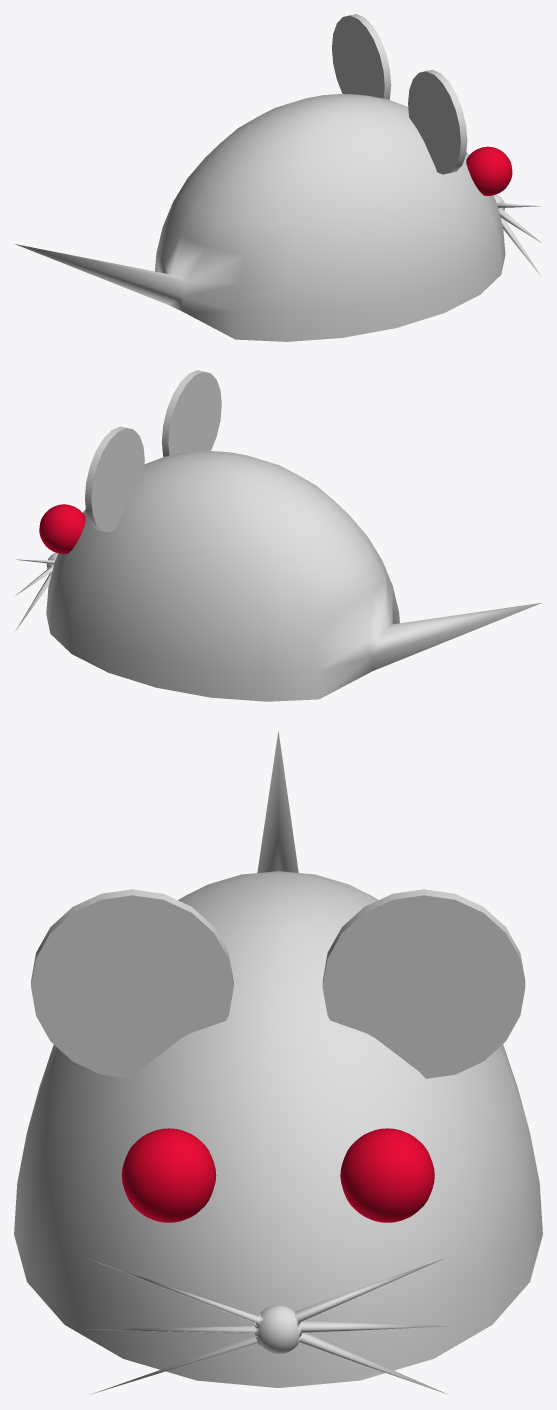
The model's file is nezumi.fbx.
3 renders of one model, top to bottom at view 1: azimuth 30°, elevation 25°; view 2: azimuth 150°, elevation 25°; view 3: azimuth 270°, elevation 25°, orthographic. The views are drawn at different scales.
Visible parts, largest first — view 1: pCylinder3; view 2: pCylinder3; view 3: pCylinder3.
Part boxes in pixels (x1,y1,x2,y2): pCylinder3: [15, 14, 541, 341]; pCylinder3: [15, 370, 541, 701]; pCylinder3: [14, 730, 542, 1394].
Size of the model in its own units: 2.98 by 1.27 by 1.46.
